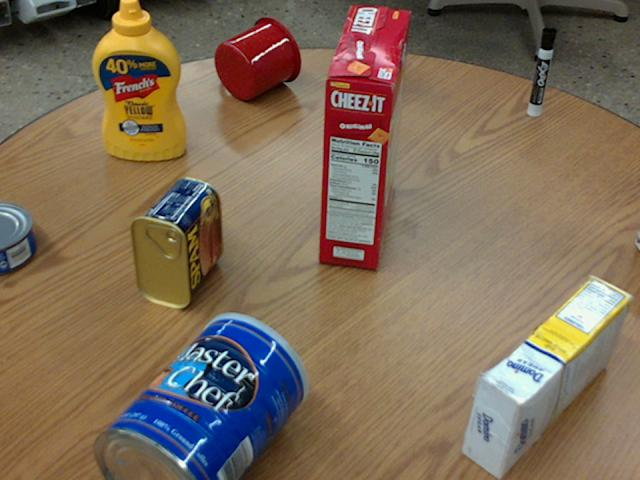cracker_box: (317, 7, 407, 268)
gelatin_box: (371, 26, 399, 104)
large_marker: (527, 26, 555, 115)
master_chef_can: (94, 313, 307, 479)
mug: (213, 15, 300, 99)
mustard_bottle: (92, 0, 185, 159)
potted_meat_can: (129, 175, 219, 307)
sugar_box: (461, 275, 629, 479)
tomato_soup_can: (633, 214, 639, 253)
tuna_fish_can: (0, 200, 36, 272)
